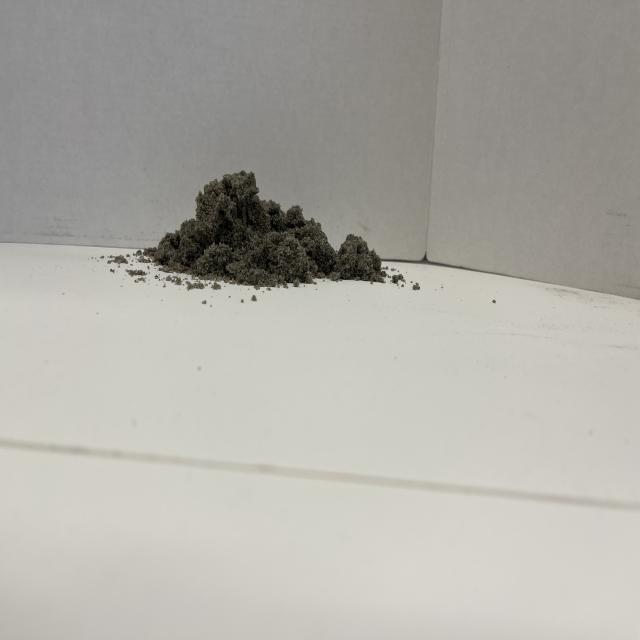sand: (154, 157, 370, 292)
